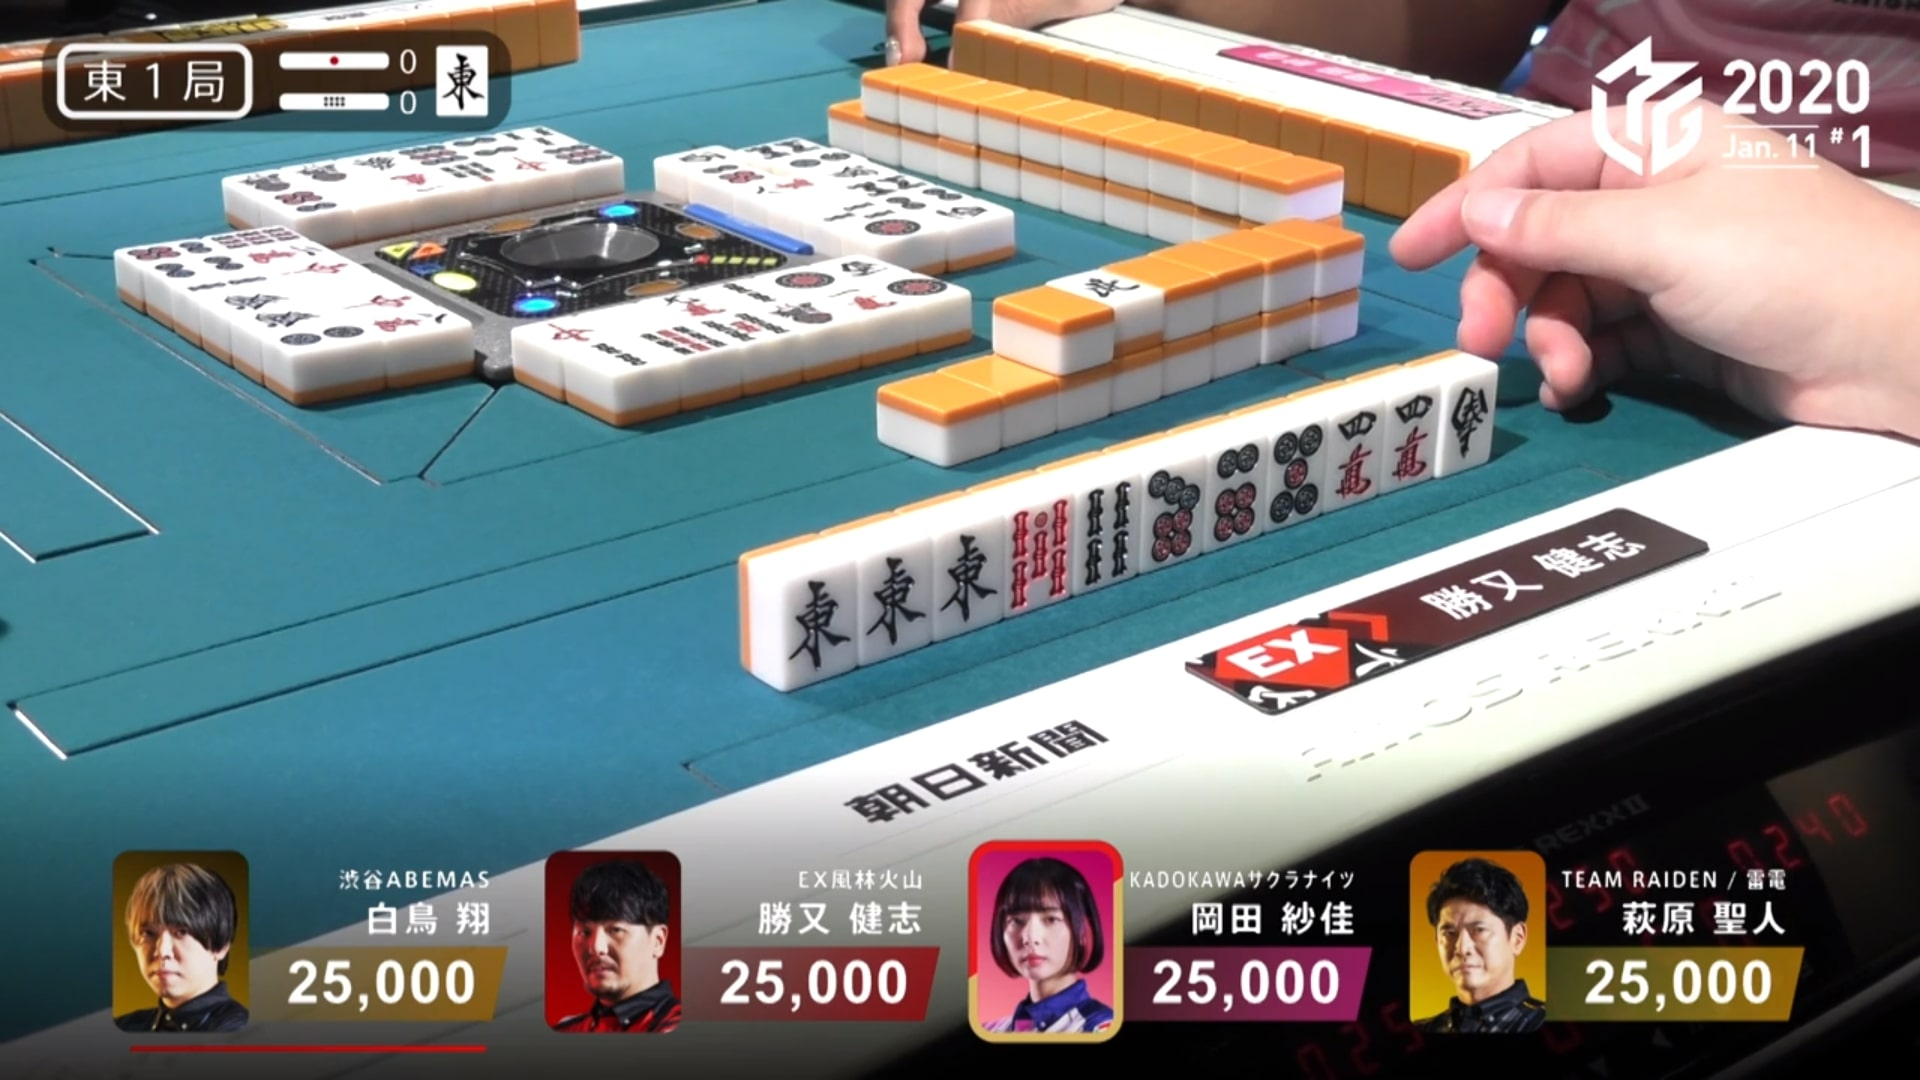4m: (1382, 392, 1433, 488), (1324, 407, 1375, 502)
4s: (1073, 480, 1134, 582)
5p: (1261, 421, 1320, 524)
5sr: (1004, 493, 1065, 608)
6p: (1209, 438, 1257, 542)
7p: (1139, 463, 1197, 566)
hand_ton_1: (40, 34, 258, 121)
nan: (1447, 376, 1495, 468)
round_0: (266, 82, 422, 120)
team_exfurinkazan: (1184, 589, 1470, 712)
ton: (781, 562, 855, 675), (930, 520, 1000, 630), (861, 545, 928, 646)
